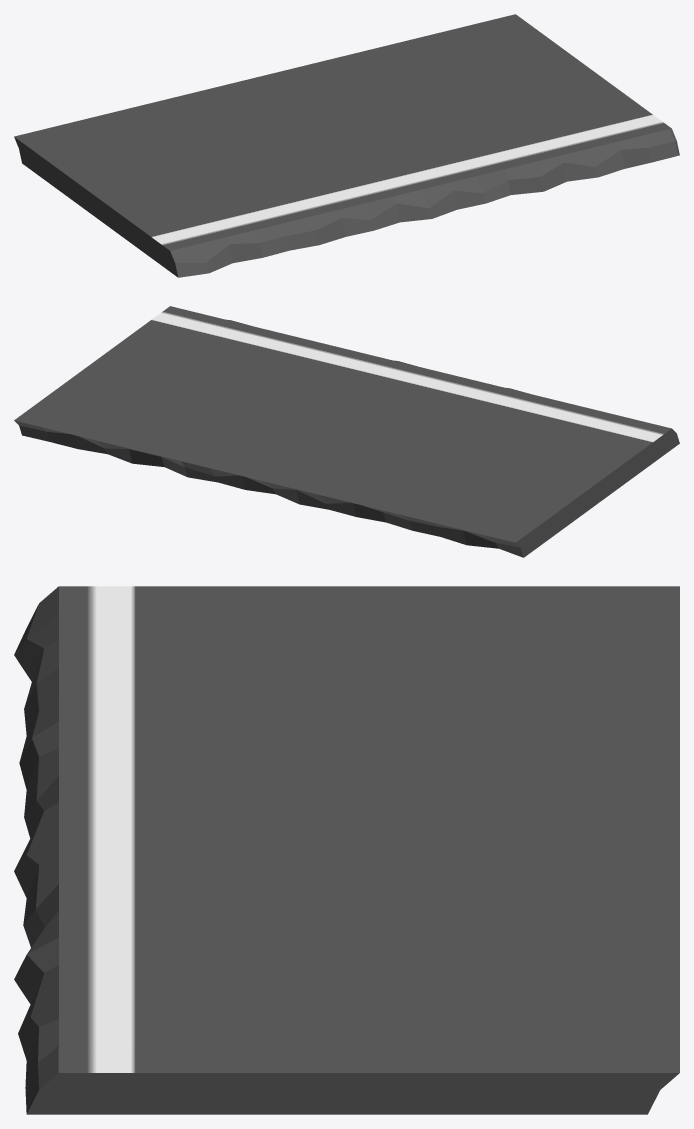
File: road_merge.fbx
The picture shows the model from 3 angles, top to bottom: view 1: azimuth 30°, elevation 25°; view 2: azimuth 150°, elevation 25°; view 3: azimuth 270°, elevation 25°; orthographic projection. The views are drawn at different scales.
Visible parts, largest first — view 1: road_merge; view 2: road_merge; view 3: road_merge.
Part boxes in pixels (x1,y1,x2,y2): road_merge: (14, 14, 679, 277); road_merge: (14, 306, 679, 557); road_merge: (14, 586, 679, 1114).
Size of the model in its own units: 289 by 500 by 20.
